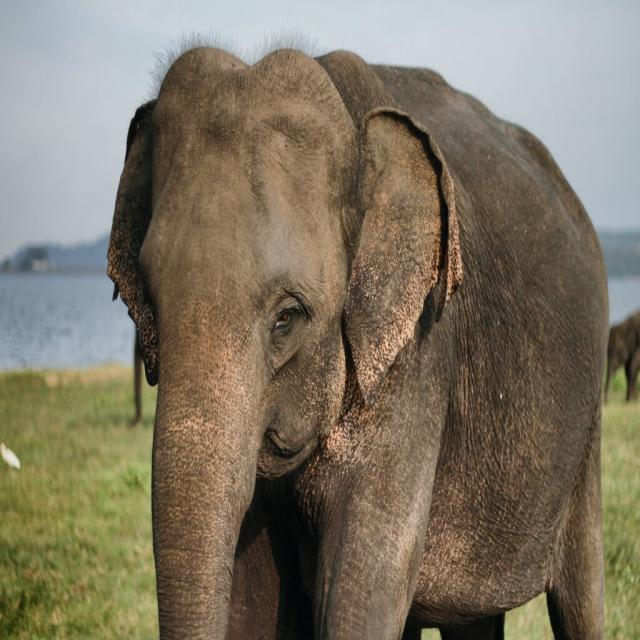Elephant: (105, 36, 605, 640)
